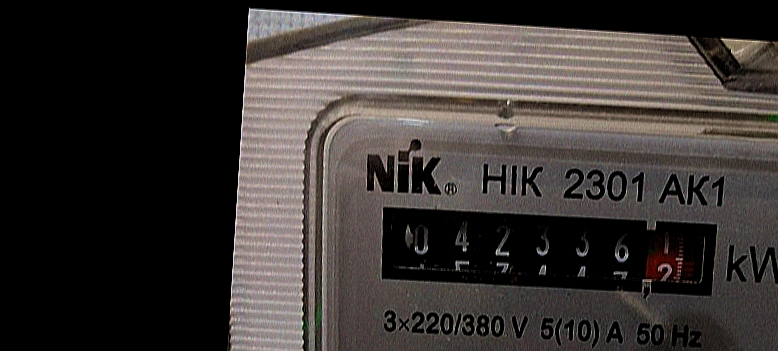0: (413, 220, 435, 256)
1: (661, 226, 676, 256)
2: (494, 221, 516, 258), (656, 260, 677, 282)
3: (535, 219, 556, 259), (573, 222, 595, 259)
4: (454, 215, 475, 253)
6: (611, 227, 636, 264)
screen: (373, 192, 730, 307)
